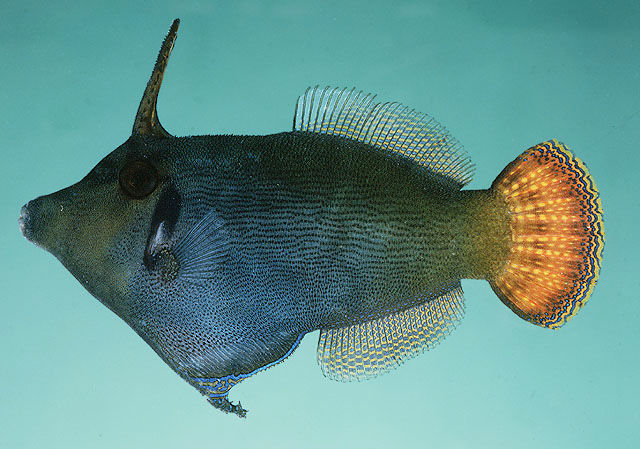fish: (19, 18, 605, 419)
